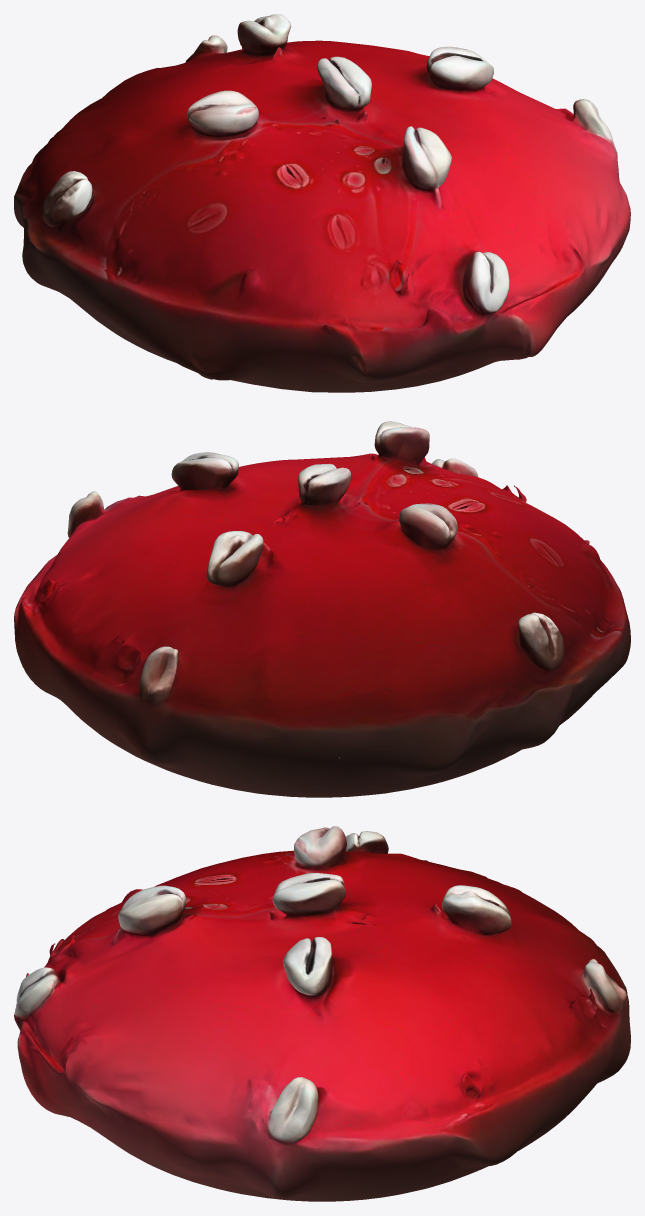
The model's file is sphere-rouge.glb.
The picture shows the model from 3 angles, top to bottom: view 1: azimuth 30°, elevation 25°; view 2: azimuth 150°, elevation 25°; view 3: azimuth 270°, elevation 25°; orthographic projection.
Parts seen in each view (by area): view 1: tripo_node_cee8de6c-7d72-4e65-8c02-c9fb83982f6f; view 2: tripo_node_cee8de6c-7d72-4e65-8c02-c9fb83982f6f; view 3: tripo_node_cee8de6c-7d72-4e65-8c02-c9fb83982f6f.
Part boxes in pixels (x1,y1,x2,y2): tripo_node_cee8de6c-7d72-4e65-8c02-c9fb83982f6f: (14, 14, 630, 392); tripo_node_cee8de6c-7d72-4e65-8c02-c9fb83982f6f: (14, 421, 630, 797); tripo_node_cee8de6c-7d72-4e65-8c02-c9fb83982f6f: (14, 826, 630, 1201).
Bounding box in the file's own units: 0.9784 × 0.4624 × 0.9731.
1 material, 1 textured.
